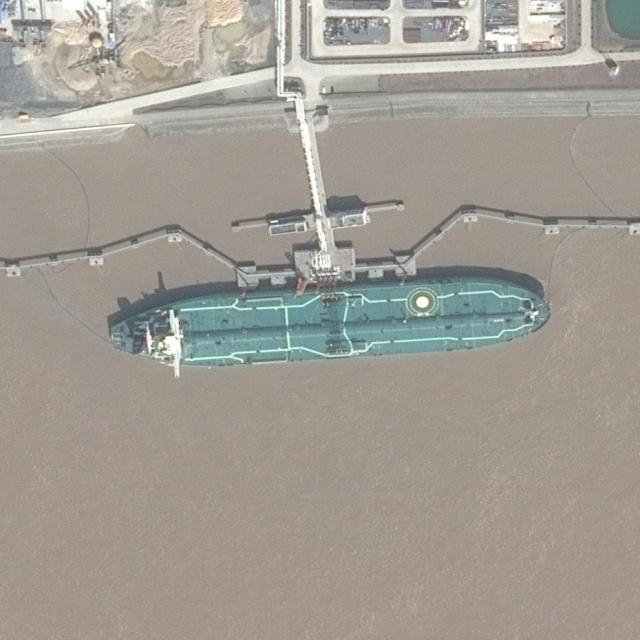Oil Tanker: (109, 273, 553, 375)
